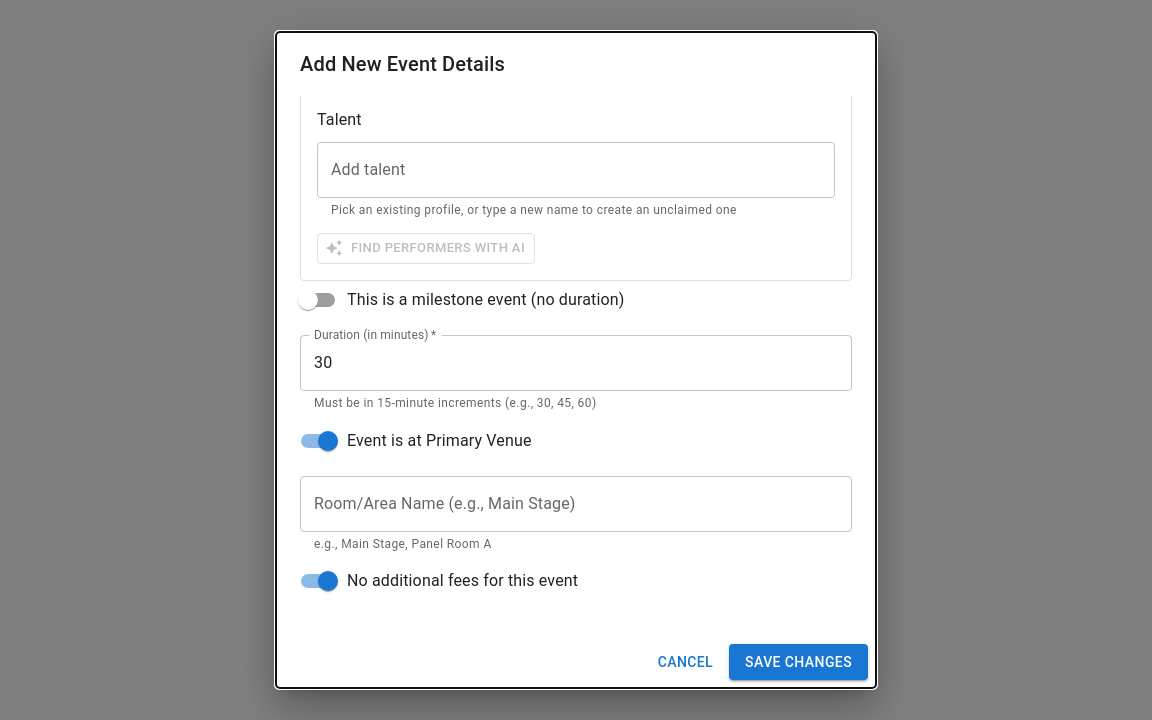
Test: ScheduleEventForm › renders and functions correctly
(page scrolled)
expect the switch labelled "Event is at Primary Venue" is shown: met, box [301,431,532,451]
expect the button "Save Changes" is shown: met, box [729,644,868,680]
Click the switch labelled "No additional fees for this event" at x=440, y=582, box [301,572,578,592]
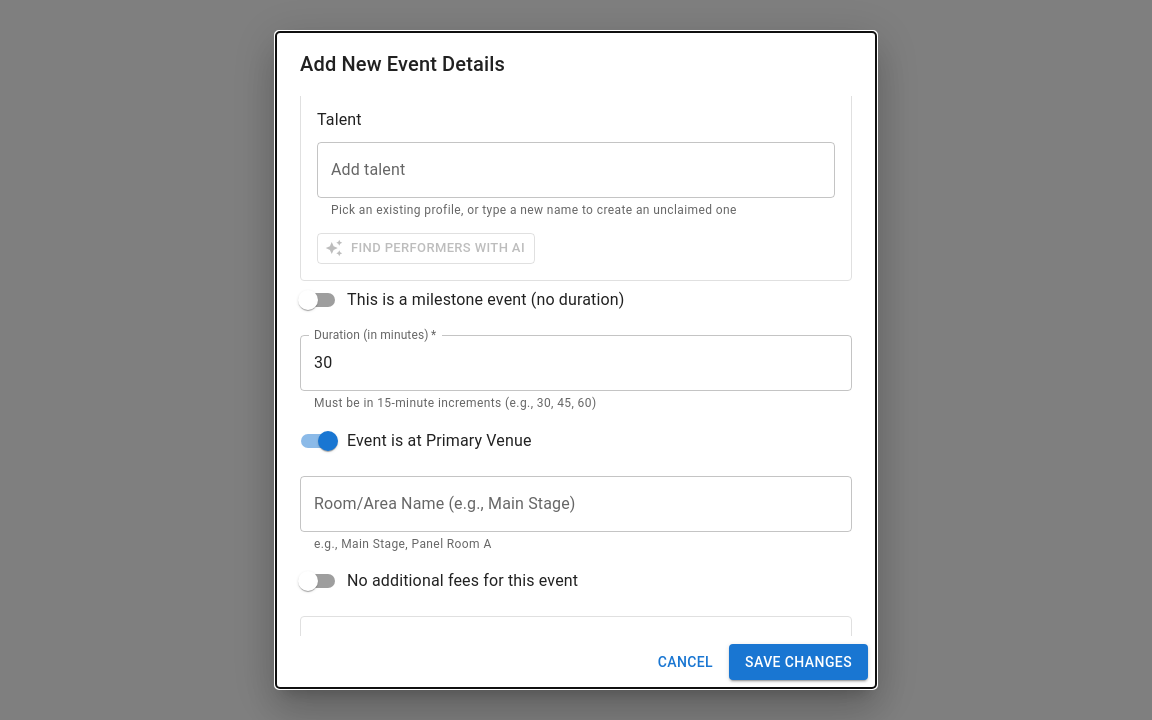
Click the switch labelled "No additional fees for this event" at x=438, y=582, box [298,572,578,592]
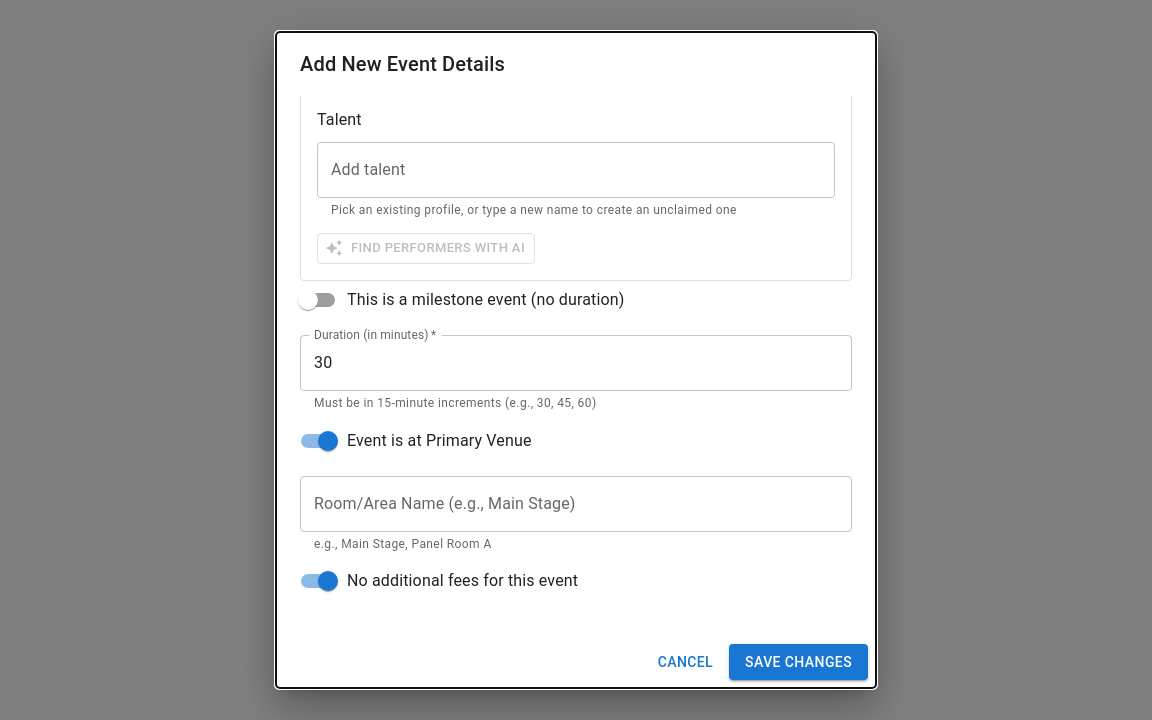
expect the dropdown labelled "select secondary venue or hotel" is not shown: met
Note: Click the switch to turn it OFF, dropdown should appear
Click the switch labelled "Event is at Primary Venue" at x=416, y=441, box [301,431,532,451]
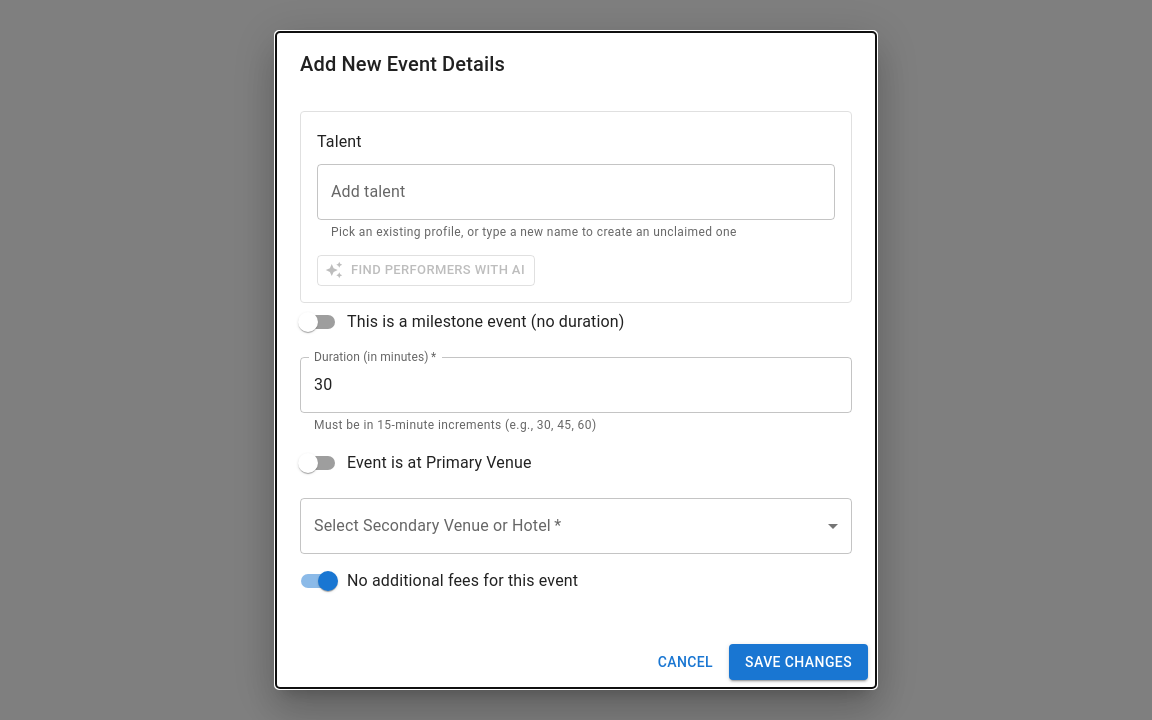
expect the switch labelled "Event is at Primary Venue" is not checked: met
expect the dropdown named "select secondary venue or hotel" is shown: met, box [300,498,852,554]
Note: Click the switch to turn it ON again, dropdown should disappear
Click the switch labelled "Event is at Primary Venue" at x=415, y=463, box [298,453,532,473]
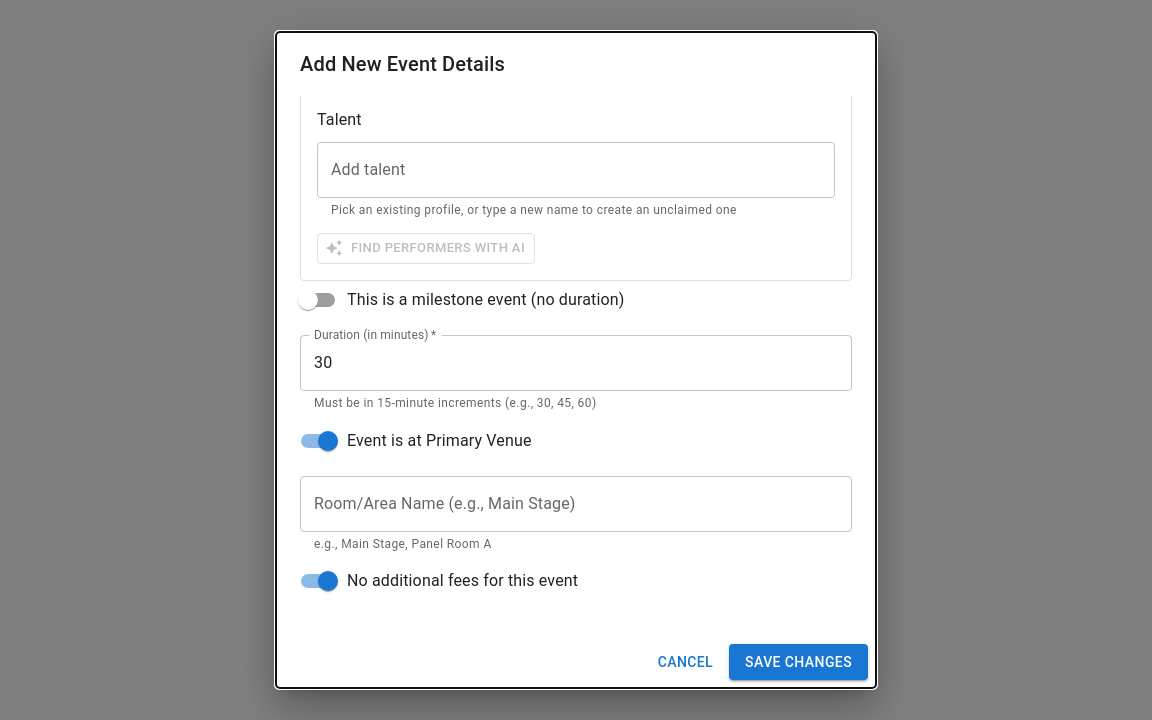
expect the switch labelled "Event is at Primary Venue" is checked: met, box [301,431,532,451]
expect the label "Select Secondary Venue or Hotel" is gone: met
